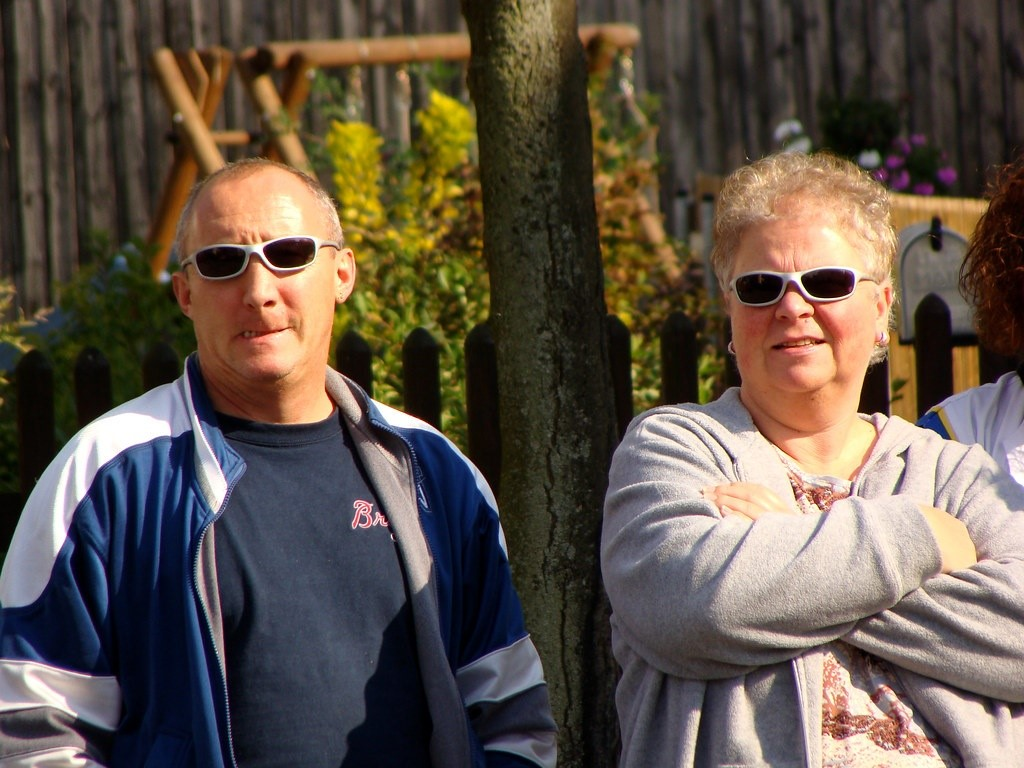face_no_mask: (720, 175, 887, 401), (174, 178, 354, 378)
